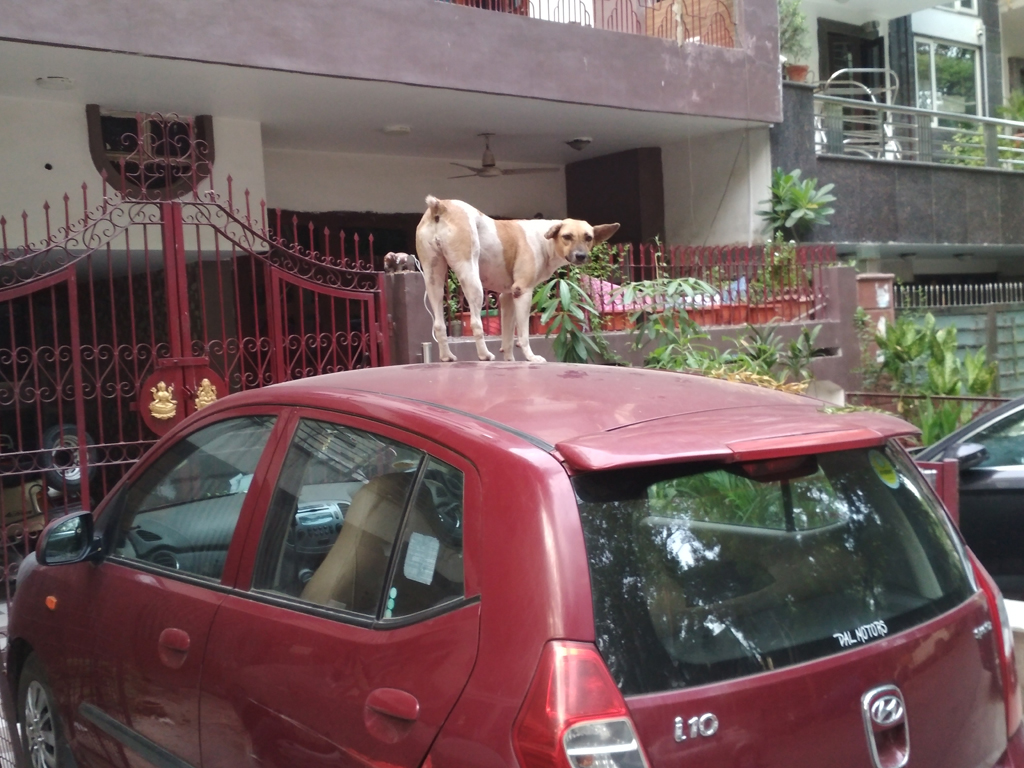dog: (414, 194, 620, 363)
